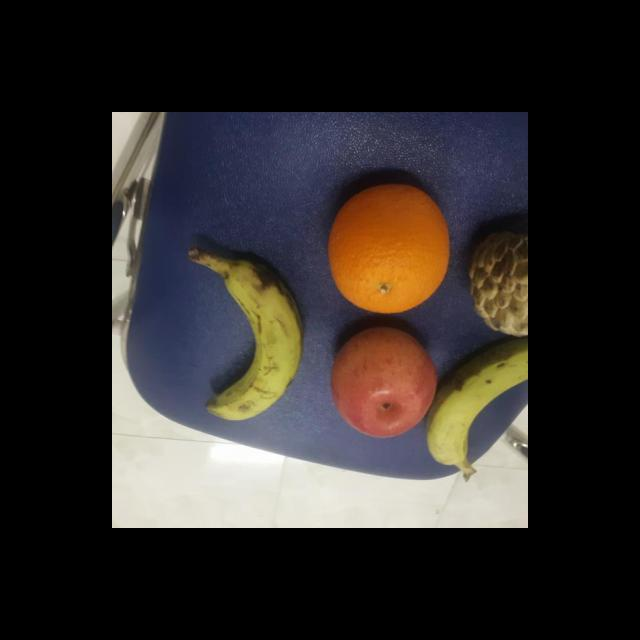Sakya fruit: (463, 225, 528, 339)
apple: (328, 324, 438, 442)
banana: (200, 258, 304, 431), (422, 338, 528, 467)
orange: (326, 182, 452, 317)
